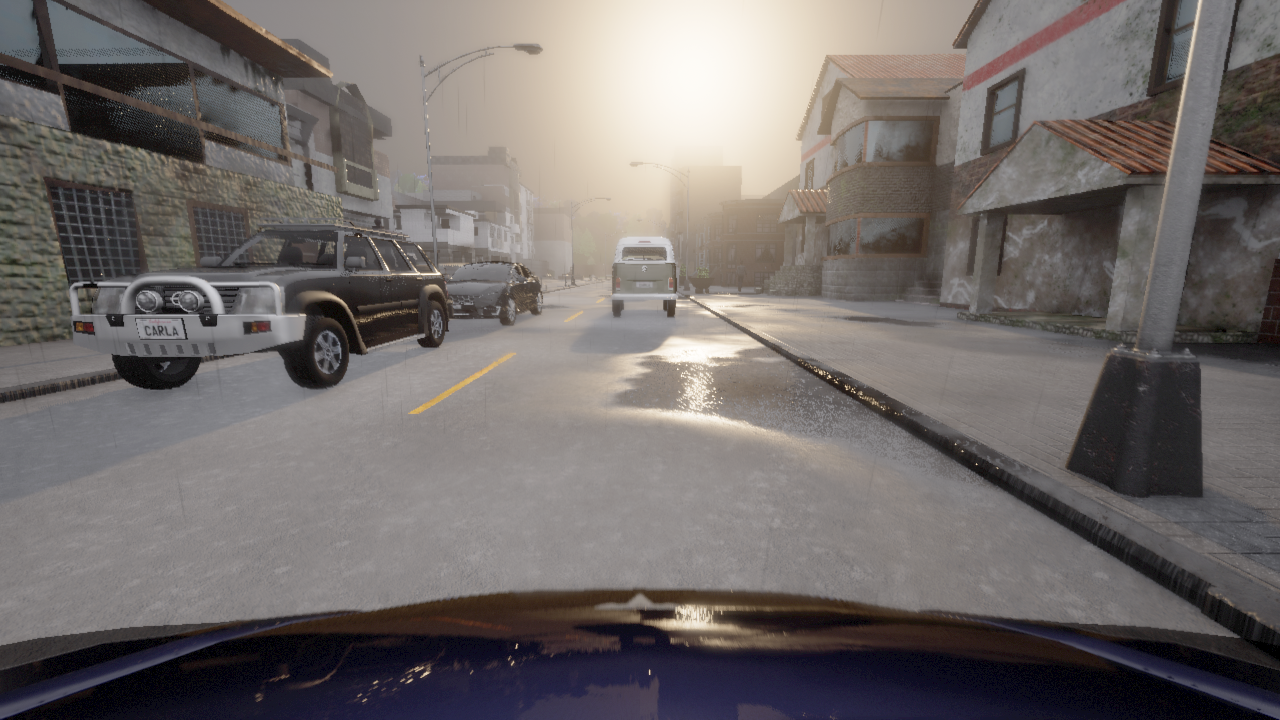cyclist: (0, 588, 1279, 719), (69, 217, 453, 389), (444, 261, 542, 325), (611, 237, 677, 316)
pedestrian: (736, 261, 746, 290)
